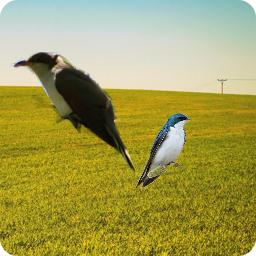Cuckoo: (11, 52, 135, 175)
Swallow: (135, 113, 191, 189)
